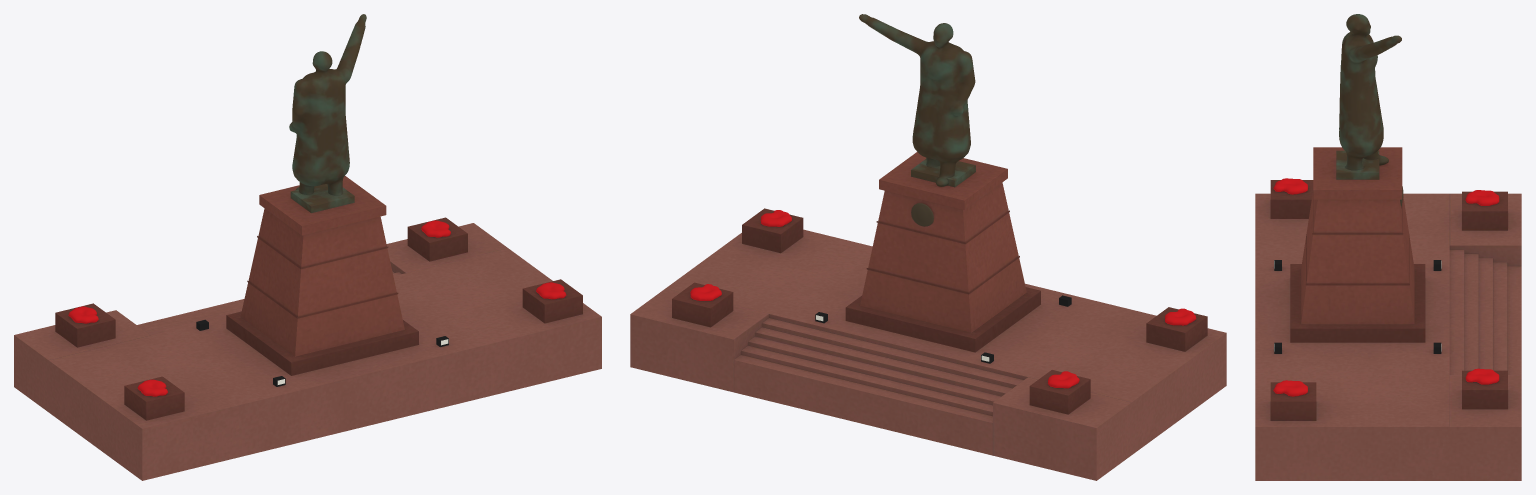
The model's file is lenin_monument.glb.
The picture shows the model from 3 angles, left to right: view 1: azimuth 30°, elevation 25°; view 2: azimuth 150°, elevation 25°; view 3: azimuth 270°, elevation 25°; orthographic projection. The views are drawn at different scales.
Parts seen in each view (by area): view 1: lenin_monument; view 2: lenin_monument; view 3: lenin_monument.
Boxes of the visible parts, <box> form: lenin_monument: <box>14,14,601,480</box>; lenin_monument: <box>630,14,1226,480</box>; lenin_monument: <box>1255,14,1521,480</box>.
Size of what is drawn, in the model's own units: 18 by 12.93 by 8.7.
Materials: 5 (5 with a texture image).
